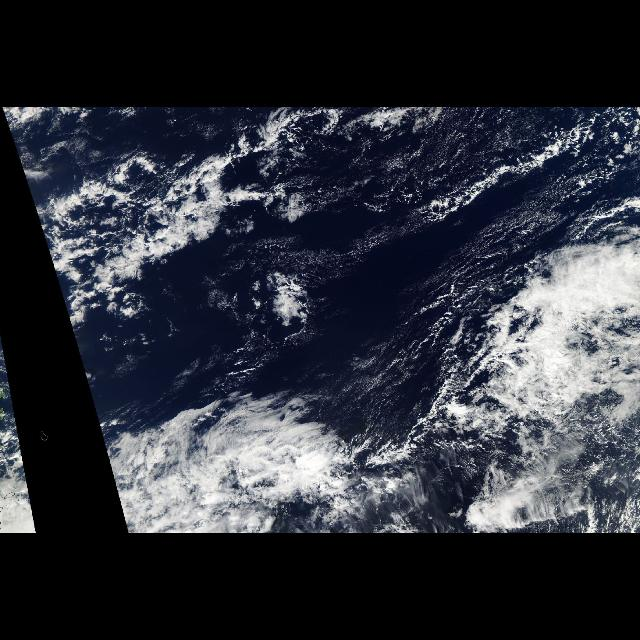Fish: (413, 115, 604, 232)
